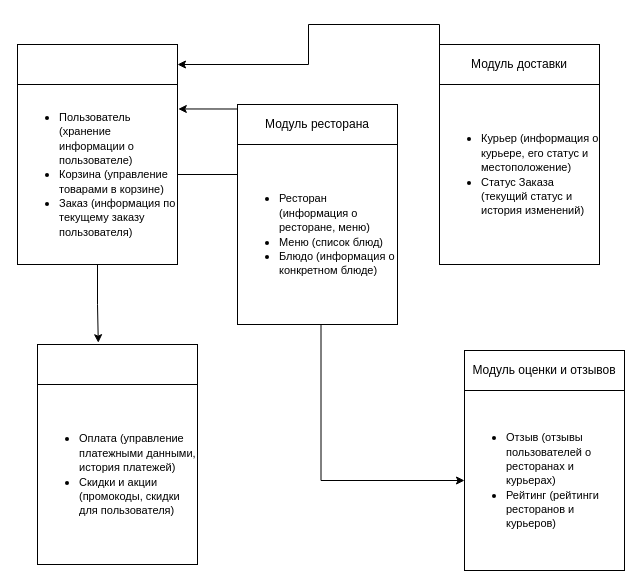
Some shapes in this 642 by 588 pixel diagram are drawn without their labels. Each missing label, with the centre of its shape:
"Модуль оплаты" belongs at point 117,364.
"Модуль пользователя" belongs at point 97,64.
